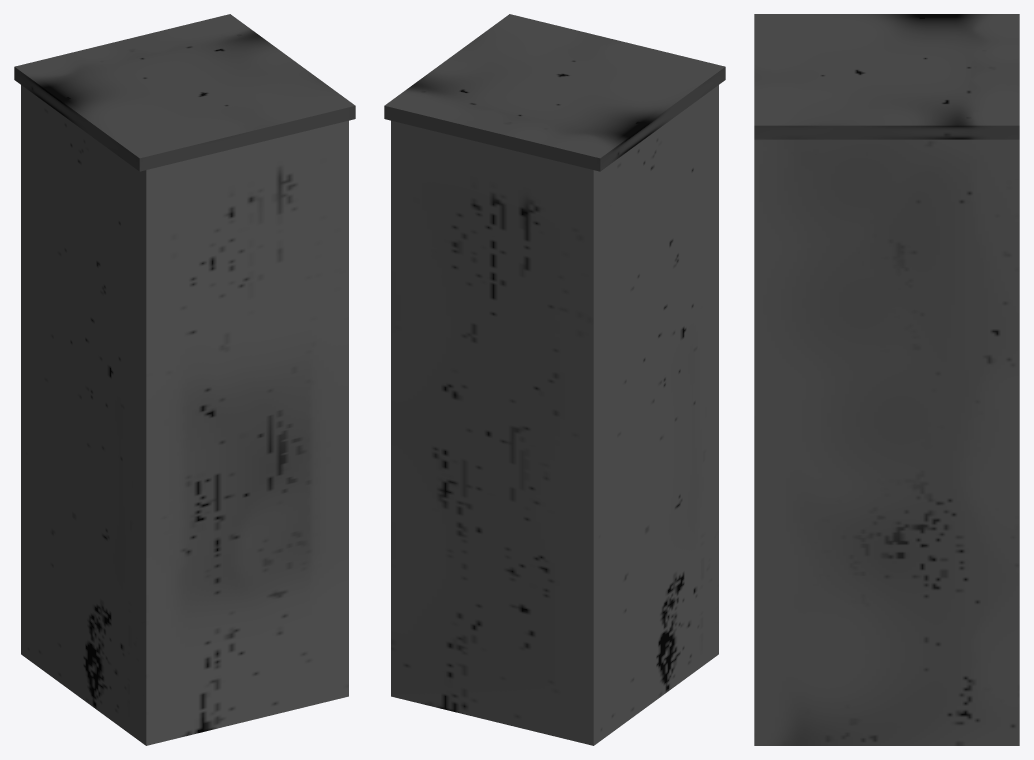
Rendered from Base_Ground_3x3_V1.fbx.
3 renders of one model, left to right at view 1: azimuth 30°, elevation 25°; view 2: azimuth 150°, elevation 25°; view 3: azimuth 270°, elevation 25°, orthographic. The views are drawn at different scales.
Parts seen in each view (by area): view 1: Base Ground 3x3 V1; view 2: Base Ground 3x3 V1; view 3: Base Ground 3x3 V1.
Boxes of the visible parts, left/top/right/bottom form: Base Ground 3x3 V1: left=14, top=14, right=355, bottom=745; Base Ground 3x3 V1: left=384, top=14, right=725, bottom=745; Base Ground 3x3 V1: left=754, top=14, right=1019, bottom=745.
Size of the model in its own units: 298 by 778 by 300.
